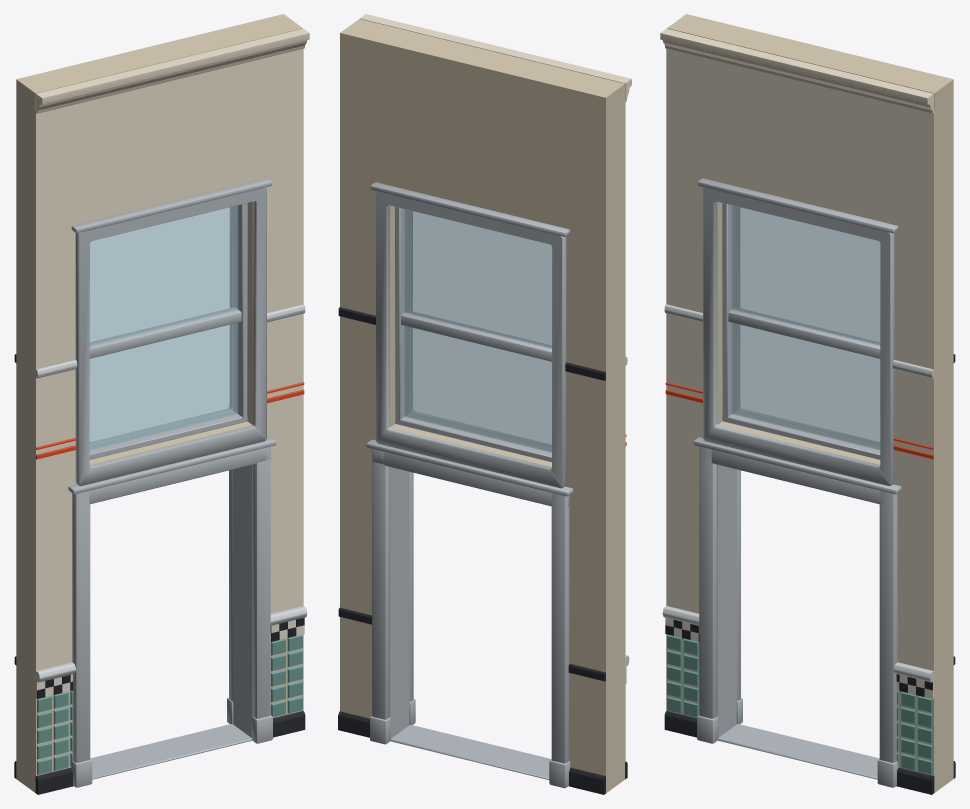
Rendered from Shop_WallDoorwayTall.fbx.
3 views of the same model, side by side, from view 1: azimuth 30°, elevation 25°; view 2: azimuth 150°, elevation 25°; view 3: azimuth 330°, elevation 25° (orthographic).
Parts seen in each view (by area): view 1: Upper, Frame, TransomGlass, Core, Tiles, Threshold, ChairRail, Grout, Baseboard, Stripe, CheckerDark, CheckerLight; view 2: Core, Frame, TransomGlass, Threshold, Upper, BackBand, BackBase; view 3: Upper, Frame, TransomGlass, Core, Tiles, Threshold, ChairRail, Grout, Baseboard, Stripe, CheckerDark, CheckerLight.
Boxes of the visible parts, x1,y1,x2,y2 form: Upper: (35, 28, 309, 680); Frame: (68, 178, 276, 787); TransomGlass: (89, 205, 237, 449); Core: (16, 14, 302, 792); Tiles: (37, 634, 302, 774); Threshold: (90, 724, 252, 779); ChairRail: (36, 304, 307, 682); Grout: (35, 634, 303, 775); Baseboard: (35, 711, 305, 794); Stripe: (36, 382, 304, 459); CheckerDark: (37, 617, 304, 698); CheckerLight: (36, 620, 304, 698); Core: (340, 19, 624, 793); Frame: (366, 182, 573, 788); TransomGlass: (404, 209, 551, 452); Threshold: (390, 725, 551, 779); Upper: (359, 14, 631, 667); BackBand: (338, 307, 605, 681); BackBase: (338, 711, 605, 794); Upper: (660, 28, 934, 680); Frame: (693, 178, 901, 787); TransomGlass: (732, 205, 880, 449); Core: (667, 14, 953, 792); Tiles: (667, 634, 932, 774); Threshold: (717, 724, 879, 779); ChairRail: (662, 304, 933, 682); Grout: (666, 634, 934, 775); Baseboard: (664, 711, 934, 794); Stripe: (665, 382, 933, 459); CheckerDark: (665, 620, 932, 696); CheckerLight: (665, 617, 933, 698).
Size of the model in its own units: 800 by 2000 by 167.
